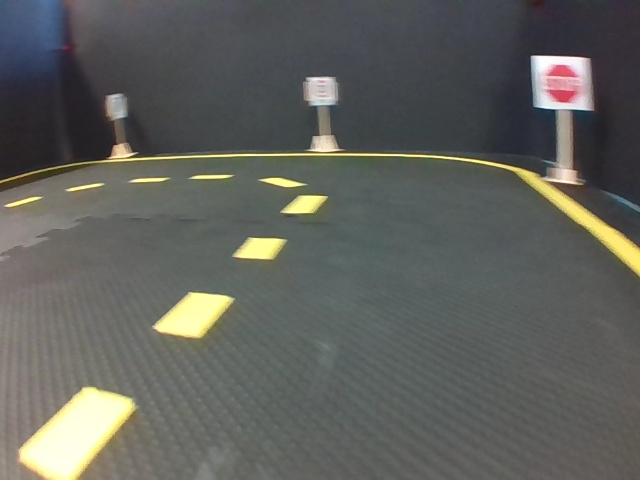30: (304, 78, 336, 103)
no30: (107, 92, 125, 119)
stop: (536, 57, 589, 110)
